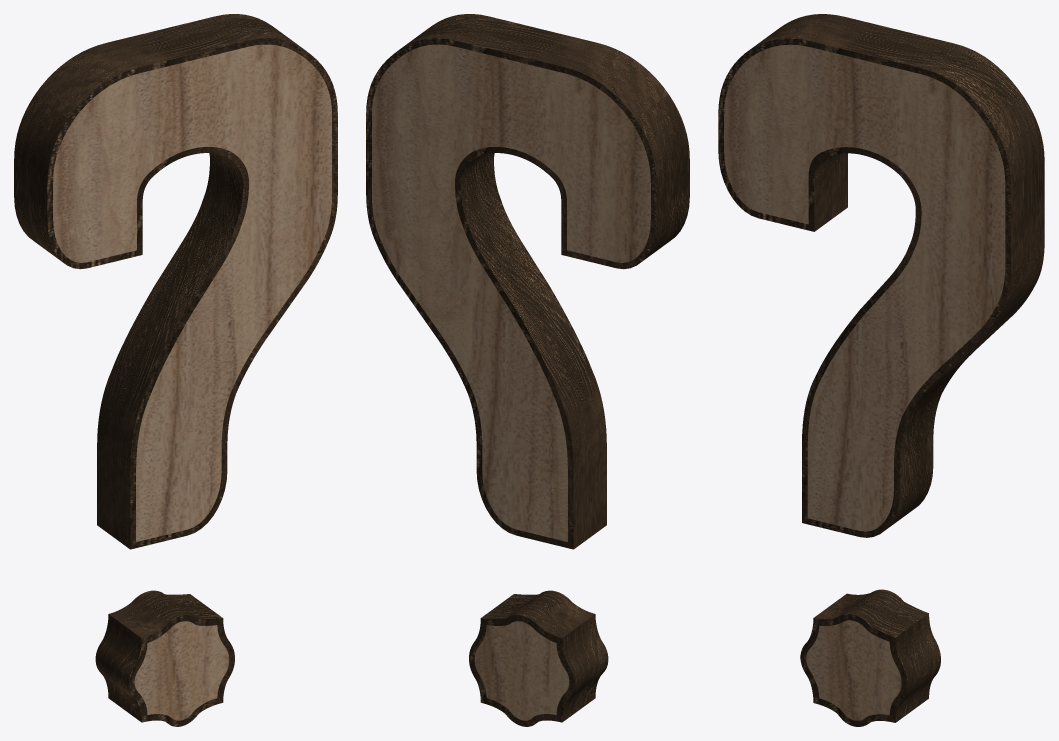
The model's file is Question.FBX.
3 views of the same model, side by side, from view 1: azimuth 30°, elevation 25°; view 2: azimuth 150°, elevation 25°; view 3: azimuth 330°, elevation 25° (orthographic).
Visible parts, largest first — view 1: Question, Question_outline; view 2: Question, Question_outline; view 3: Question, Question_outline.
Part boxes in pixels (bbox=[...]): Question: bbox=[53, 44, 331, 720]; Question_outline: bbox=[14, 14, 337, 726]; Question: bbox=[372, 44, 650, 720]; Question_outline: bbox=[366, 14, 689, 726]; Question: bbox=[724, 44, 1005, 720]; Question_outline: bbox=[718, 14, 1044, 726].
Size of the model in its own units: 50.42 by 111 by 10.
2 materials, 2 textured.
